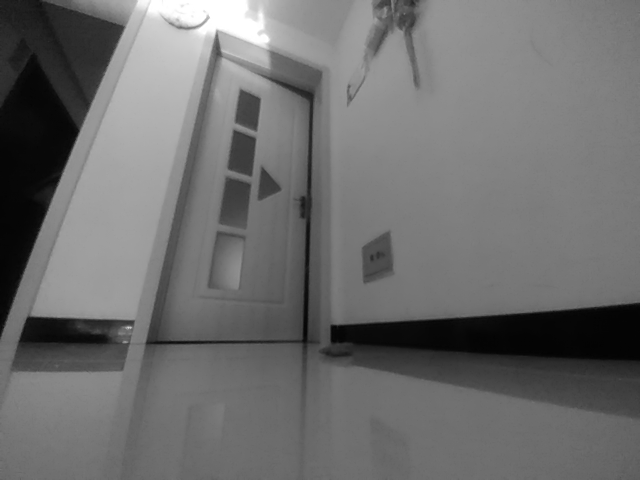pet feces: (320, 340, 356, 359)
